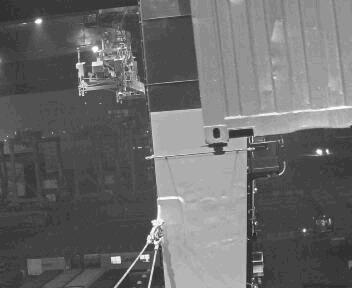twist_lock_1: (198, 141, 224, 165)
